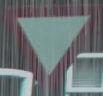Give way: (0, 5, 95, 78)
